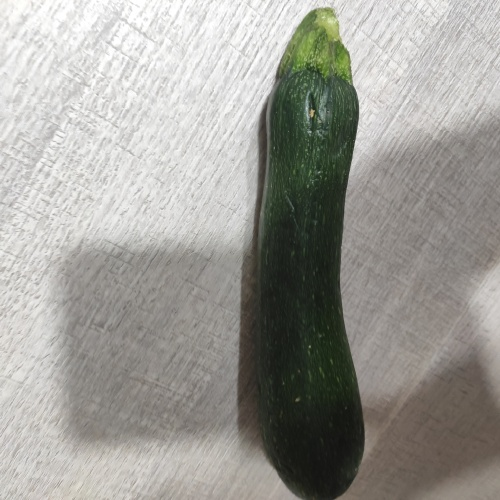zucchine: (259, 6, 367, 495)
